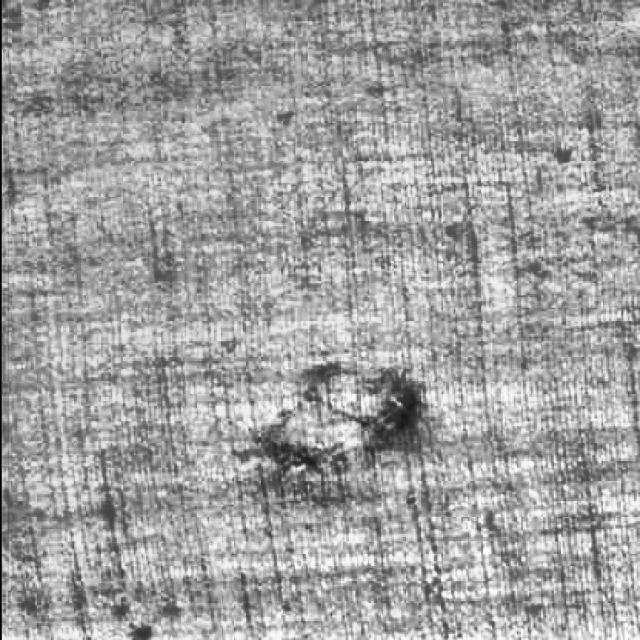oil_spot: (246, 351, 430, 494)
